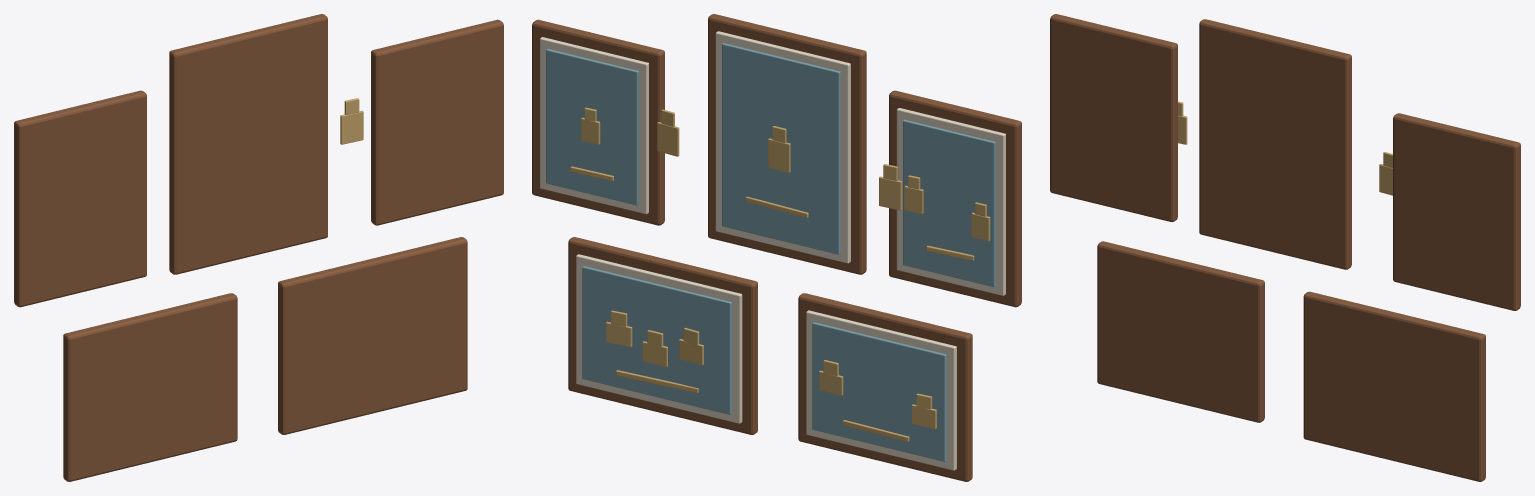
The model's file is gallery_west.glb.
The picture shows the model from 3 angles, left to right: view 1: azimuth 30°, elevation 25°; view 2: azimuth 150°, elevation 25°; view 3: azimuth 330°, elevation 25°; orthographic projection. The views are drawn at different scales.
Parts seen in each view (by area): view 1: hall_gallery_west_009_portrait_2_back, hall_gallery_west_033_portrait_5_back, hall_gallery_west_025_portrait_4_back, hall_gallery_west_001_portrait_1_back, hall_gallery_west_019_portrait_3_back, hall_gallery_west_017_portrait_2_figure_shoulder_2; view 2: hall_gallery_west_011_portrait_2_image, hall_gallery_west_035_portrait_5_image, hall_gallery_west_027_portrait_4_image, hall_gallery_west_003_portrait_1_image, hall_gallery_west_021_portrait_3_image, hall_gallery_west_009_portrait_2_back, hall_gallery_west_033_portrait_5_back, hall_gallery_west_025_portrait_4_back, hall_gallery_west_001_portrait_1_back, hall_gallery_west_019_portrait_3_back, hall_gallery_west_010_portrait_2_mat, hall_gallery_west_034_portrait_5_mat (+8 smaller); view 3: hall_gallery_west_009_portrait_2_back, hall_gallery_west_033_portrait_5_back, hall_gallery_west_025_portrait_4_back, hall_gallery_west_001_portrait_1_back, hall_gallery_west_019_portrait_3_back.
Part boxes in pixels (x1,y1,x2,y2): hall_gallery_west_009_portrait_2_back: [169, 14, 327, 274]; hall_gallery_west_033_portrait_5_back: [278, 237, 467, 434]; hall_gallery_west_025_portrait_4_back: [63, 293, 237, 481]; hall_gallery_west_001_portrait_1_back: [14, 90, 146, 307]; hall_gallery_west_019_portrait_3_back: [371, 19, 503, 225]; hall_gallery_west_017_portrait_2_figure_shoulder_2: [340, 110, 363, 144]; hall_gallery_west_011_portrait_2_image: [722, 43, 840, 254]; hall_gallery_west_035_portrait_5_image: [582, 266, 731, 414]; hall_gallery_west_027_portrait_4_image: [812, 322, 946, 461]; hall_gallery_west_003_portrait_1_image: [903, 119, 995, 286]; hall_gallery_west_021_portrait_3_image: [546, 49, 638, 205]; hall_gallery_west_009_portrait_2_back: [708, 14, 866, 274]; hall_gallery_west_033_portrait_5_back: [568, 237, 757, 434]; hall_gallery_west_025_portrait_4_back: [798, 293, 972, 481]; hall_gallery_west_001_portrait_1_back: [889, 90, 1021, 307]; hall_gallery_west_019_portrait_3_back: [532, 19, 664, 225]; hall_gallery_west_010_portrait_2_mat: [715, 31, 850, 263]; hall_gallery_west_034_portrait_5_mat: [576, 254, 742, 423]; hall_gallery_west_009_portrait_2_back: [1199, 19, 1351, 269]; hall_gallery_west_033_portrait_5_back: [1303, 291, 1485, 481]; hall_gallery_west_025_portrait_4_back: [1097, 241, 1264, 422]; hall_gallery_west_001_portrait_1_back: [1050, 14, 1177, 221]; hall_gallery_west_019_portrait_3_back: [1393, 113, 1520, 310].
Size of the model in its own units: 1.88 by 1.51 by 0.0844.
